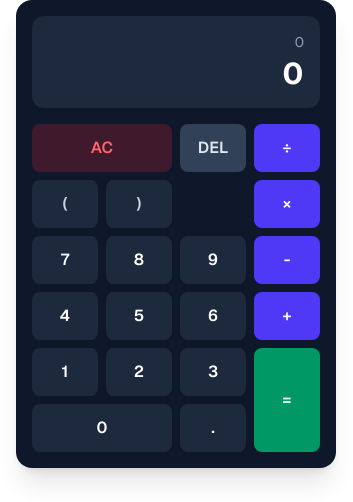
Test case: handleCalculate (sanitization & success path) › sets both the result span and the display line to the resolved value on success
Click the button "4": (65,316) [32,292,98,340]
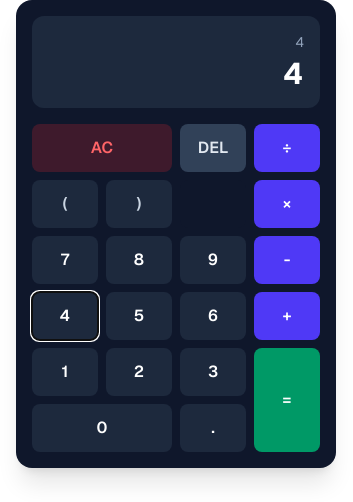
Click the button "+": (287,316) [254,292,320,340]
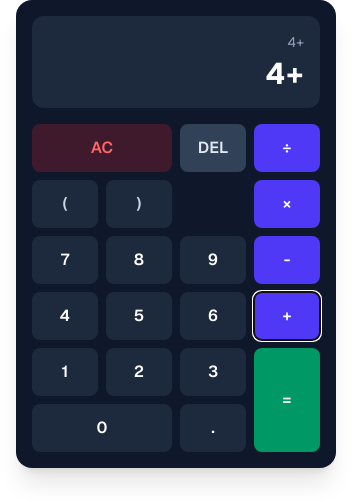
Click the button "2": (139,372) [106,348,172,396]
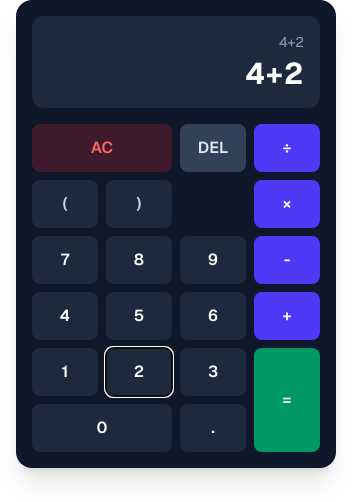
Click the button "=": (287,400) [254,348,320,452]
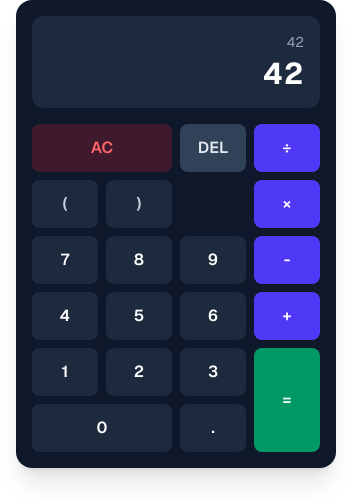
Result: the 2nd text "42" is shown at [263,56,304,92]
